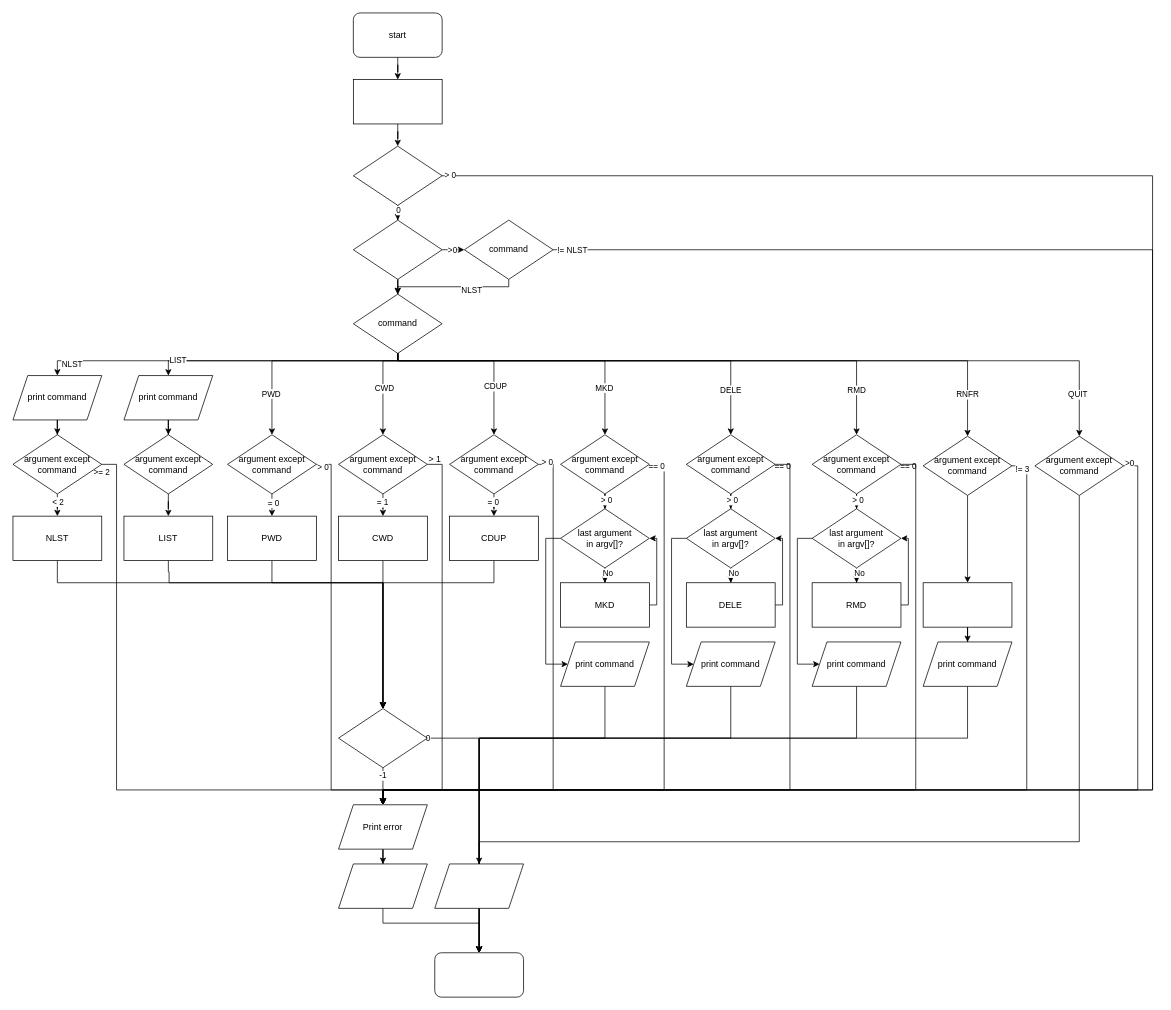
The diagram is 1171 pixels wide and 1010 high, and some of its shapes have lost their labels. Here are the shapes that lost their labels. From the top down, the centre of each, then its label:
At pixel 397 101: "parsing Input using getopt()".
At pixel 397 175: "non_flag".
At pixel 397 249: "aflag + lflag".
At pixel 967 604: "RNFR, RNTO".
At pixel 382 738: "return val".
At pixel 382 885: "exit(1)".
At pixel 479 885: "exit(0)".
At pixel 479 974: "end".
